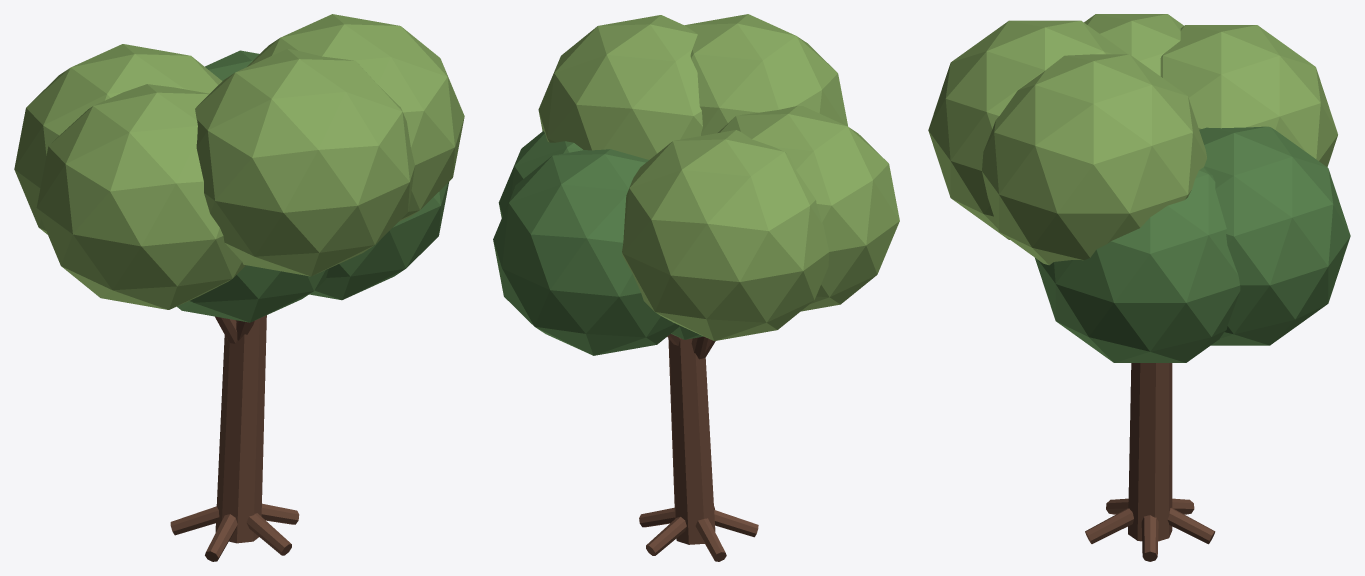
The model's file is tree_oak.glb.
The picture shows the model from 3 angles, left to right: view 1: azimuth 30°, elevation 25°; view 2: azimuth 150°, elevation 25°; view 3: azimuth 270°, elevation 25°; orthographic projection. The views are drawn at different scales.
Parts seen in each view (by area): view 1: Geometry; view 2: Geometry; view 3: Geometry.
Boxes of the visible parts, x1,y1,x2,y2 form: Geometry: [14, 14, 464, 561]; Geometry: [493, 14, 899, 561]; Geometry: [928, 14, 1350, 561].
Bounding box in the file's own units: 2.74 × 3.48 × 2.6.
